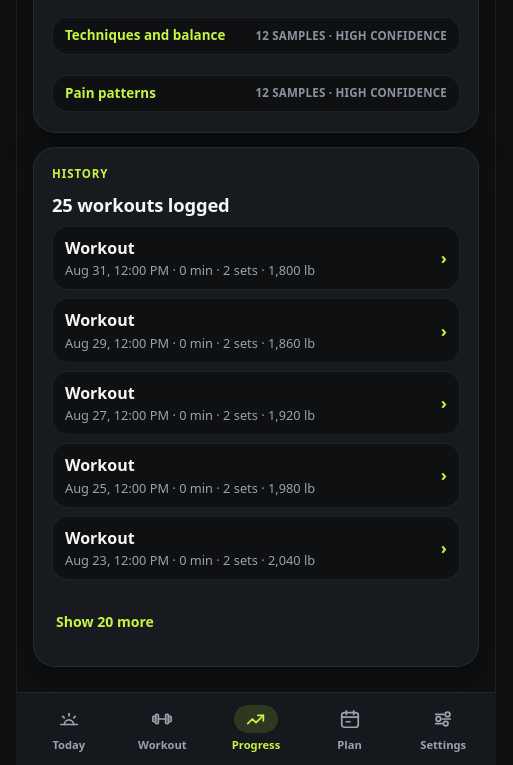
Test case: Progress, every lift once › shows the five newest workouts, and every other one a tap away
(page scrolled)
Expected: the number of buttons with test id "history-row" is 5, 52,226 -> 460,290; 52,298 -> 460,363; 52,371 -> 460,435; 52,443 -> 460,508; 52,516 -> 460,580
Step 1. Click the button with test id "history-more" → x=105, y=622, box 52,598 -> 158,646
(page scrolled)
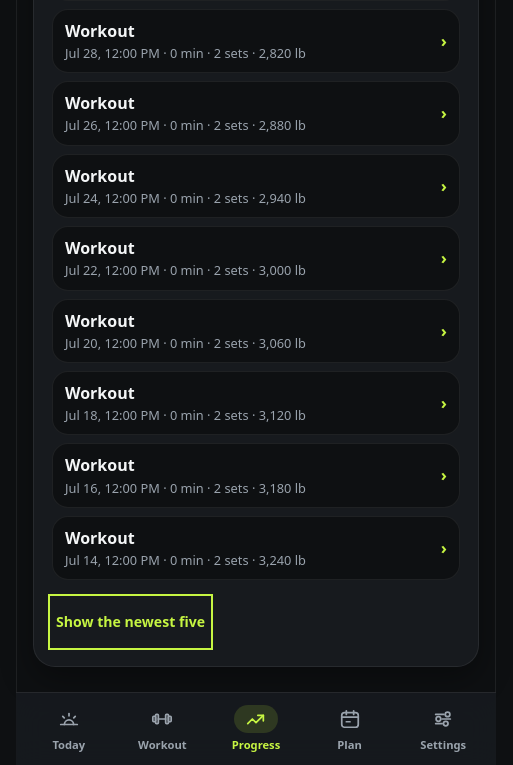
Now the button with test id "history-more" is expanded, box 52,598 -> 209,646
